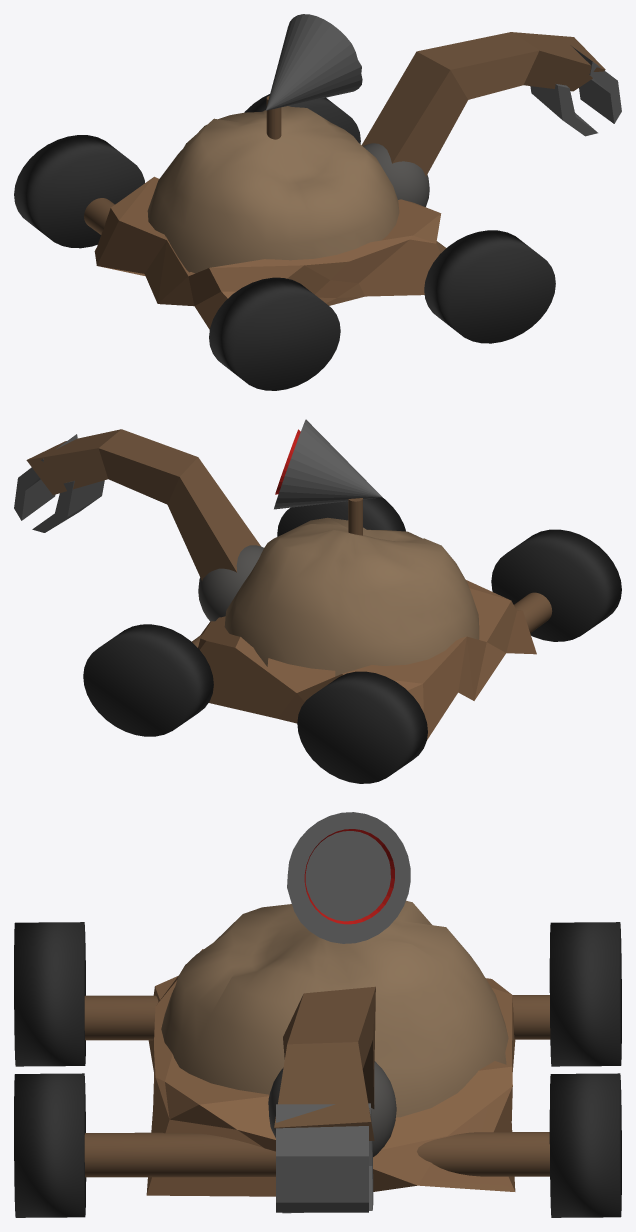
Rendered from robot3.fbx.
3 renders of one model, top to bottom at view 1: azimuth 30°, elevation 25°; view 2: azimuth 150°, elevation 25°; view 3: azimuth 270°, elevation 25°, orthographic. The views are drawn at different scales.
Visible parts, largest first — view 1: Сфера, Куб, Куб.002, Цилиндр.007, Цилиндр.006, Цилиндр.003, Конус, Сфера.001, Цилиндр.002, Цилиндр.005; view 2: Сфера, Куб.002, Куб, Цилиндр.002, Цилиндр.003, Цилиндр.006, Конус, Цилиндр.007, Сфера.001, Цилиндр.005, Цилиндр.001; view 3: Сфера, Куб, Куб.002, Цилиндр.004, Конус, Цилиндр.003, Цилиндр.002, Цилиндр.006, Цилиндр.007, Цилиндр.005, Сфера.001, Конус.001.
Part boxes in pixels (left/top/right/bottom): Сфера: left=147, top=106, right=399, bottom=273; Куб: left=94, top=176, right=441, bottom=329; Куб.002: left=361, top=32, right=621, bottom=176; Цилиндр.007: left=424, top=230, right=555, bottom=343; Цилиндр.006: left=209, top=277, right=340, bottom=390; Цилиндр.003: left=14, top=135, right=144, bottom=248; Конус: left=266, top=14, right=362, bottom=110; Сфера.001: left=363, top=143, right=429, bottom=206; Цилиндр.002: left=244, top=94, right=360, bottom=143; Цилиндр.005: left=84, top=198, right=114, bottom=234; Сфера: left=224, top=517, right=479, bottom=676; Куб.002: left=14, top=429, right=260, bottom=580; Куб: left=198, top=580, right=536, bottom=739; Цилиндр.002: left=83, top=624, right=213, bottom=736; Цилиндр.003: left=297, top=671, right=427, bottom=783; Цилиндр.006: left=491, top=529, right=621, bottom=641; Конус: left=274, top=419, right=382, bottom=509; Цилиндр.007: left=277, top=497, right=405, bottom=536; Сфера.001: left=198, top=545, right=263, bottom=621; Цилиндр.005: left=514, top=592, right=552, bottom=632; Цилиндр.001: left=348, top=498, right=362, bottom=535; Сфера: left=161, top=900, right=508, bottom=1117; Куб: left=146, top=949, right=515, bottom=1196; Куб.002: left=274, top=986, right=375, bottom=1213; Цилиндр.004: left=84, top=1132, right=549, bottom=1177; Конус: left=287, top=812, right=410, bottom=943; Цилиндр.003: left=549, top=922, right=621, bottom=1066; Цилиндр.002: left=549, top=1073, right=621, bottom=1217; Цилиндр.006: left=14, top=922, right=85, bottom=1066; Цилиндр.007: left=14, top=1073, right=86, bottom=1217; Цилиндр.005: left=84, top=995, right=550, bottom=1040; Сфера.001: left=268, top=1061, right=396, bottom=1156; Конус.001: left=304, top=829, right=394, bottom=924.
Size of the model in its own units: 429 by 217 by 340.
